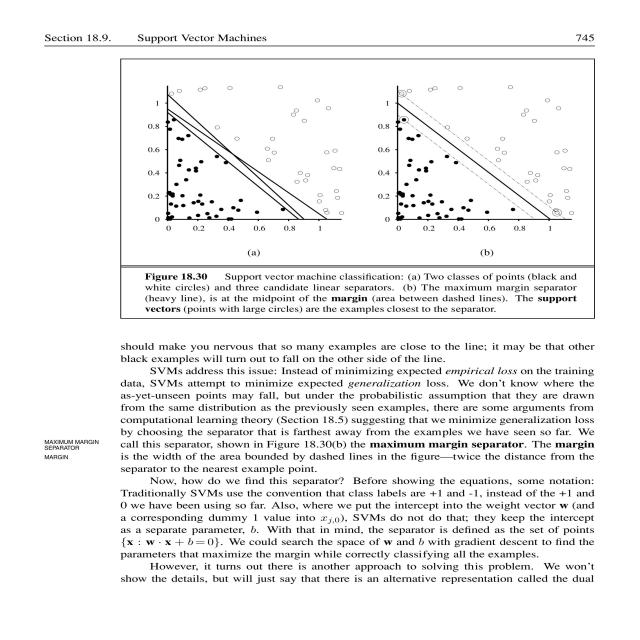diagram: (122, 59, 602, 317)
